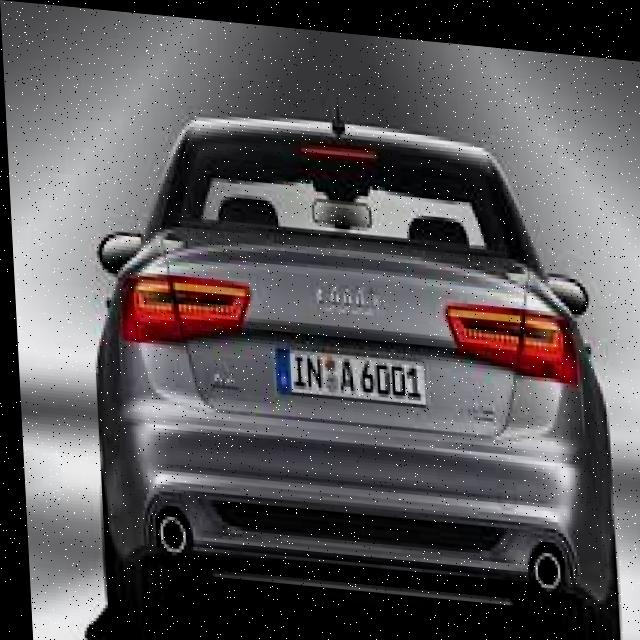car: (38, 73, 640, 640)
